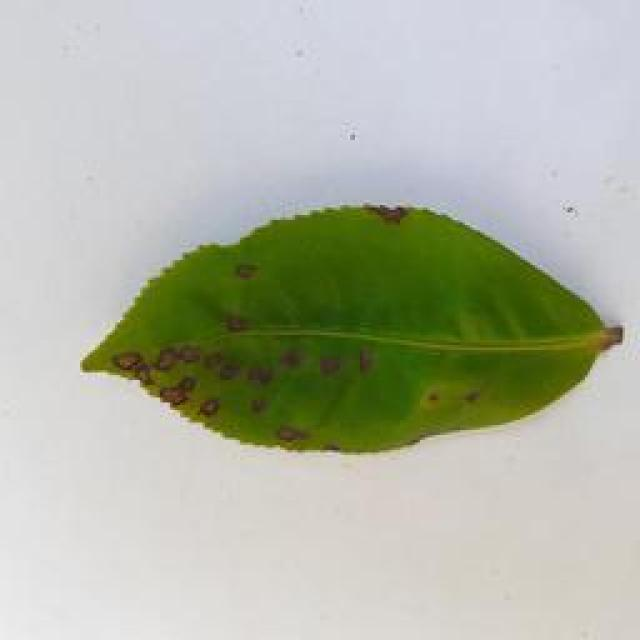Helopeltis: (50, 200, 640, 460)
